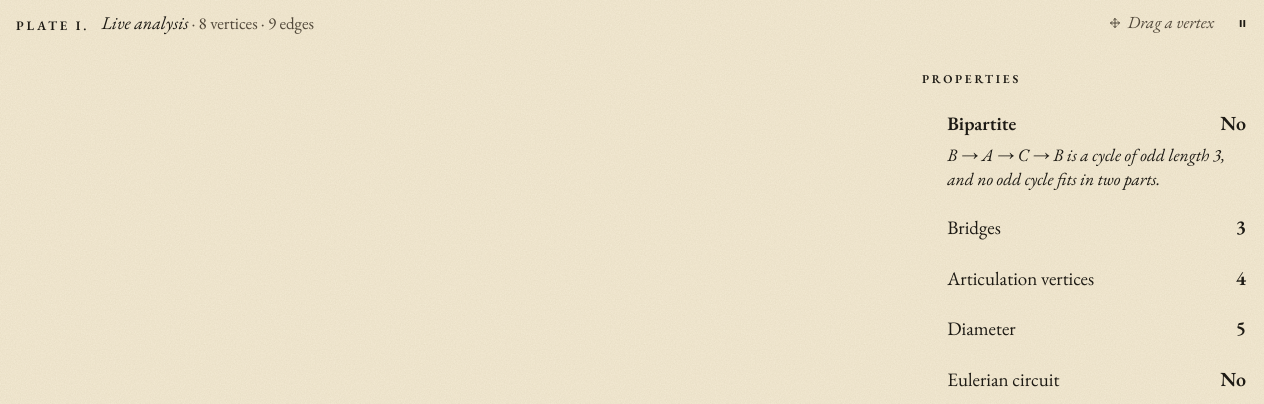
Test case: the live demo › shows a property and its reason when clicked
Click the button "Diameter 5" at (981, 329), box [922,304,1246,354]
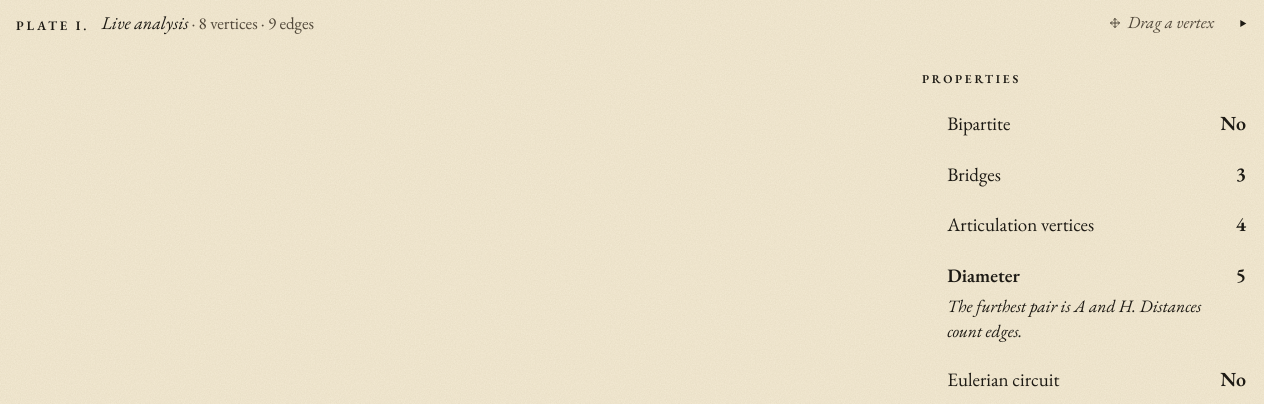
Now the button that starts with "Diameter" shows "furthest pair is A and H", box [922,250,1246,354]
